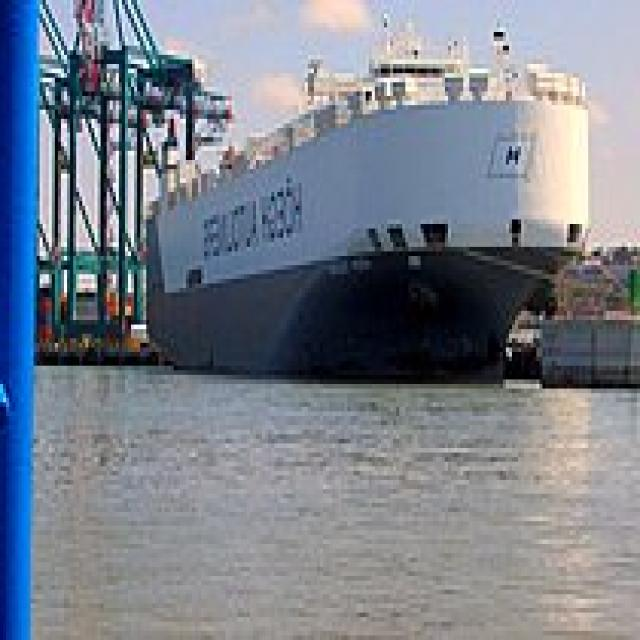Carrier: (144, 9, 600, 384)
